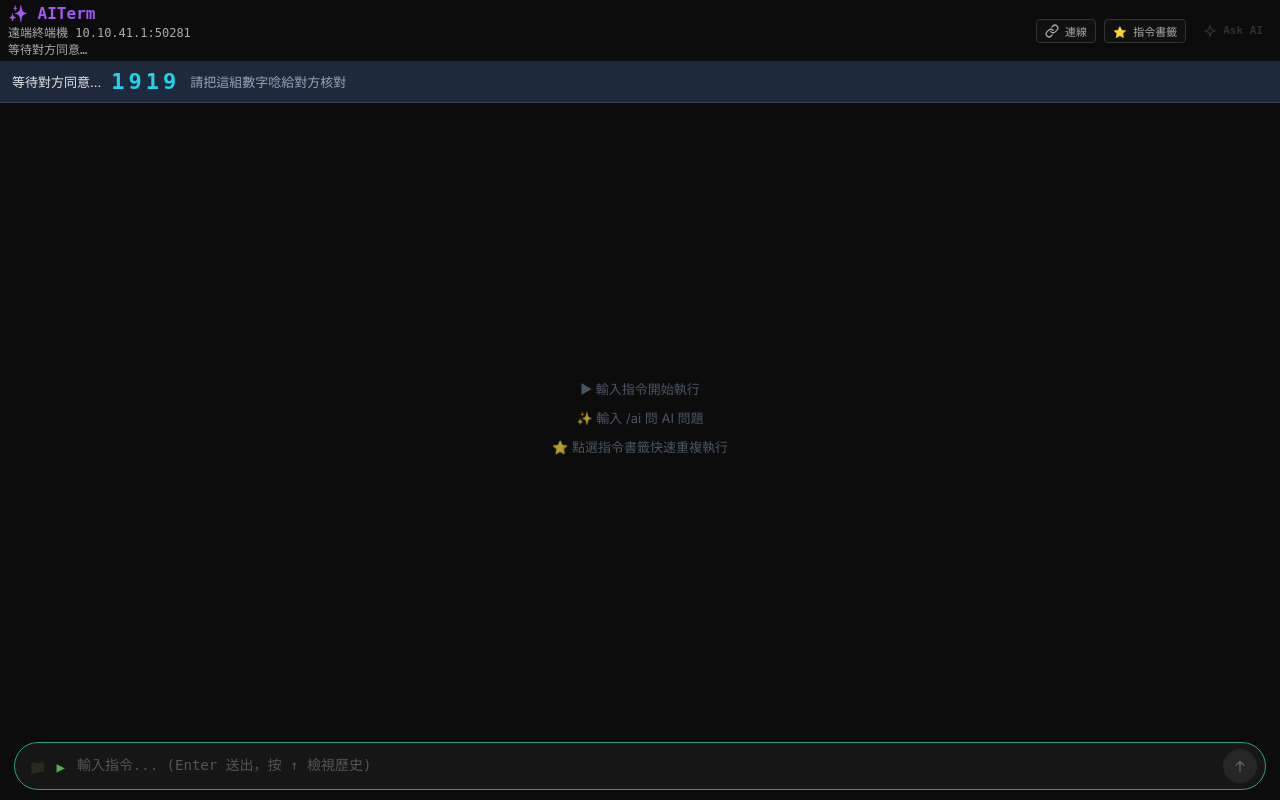
Test case: RemoteTerminalView › 點指令書籤按鈕開啟選單，選擇後把指令文字填進輸入框
Click the button titled "儲存至書籤 (Ctrl+Shift+R 開啟)": (1145, 30) [1104,18,1186,42]
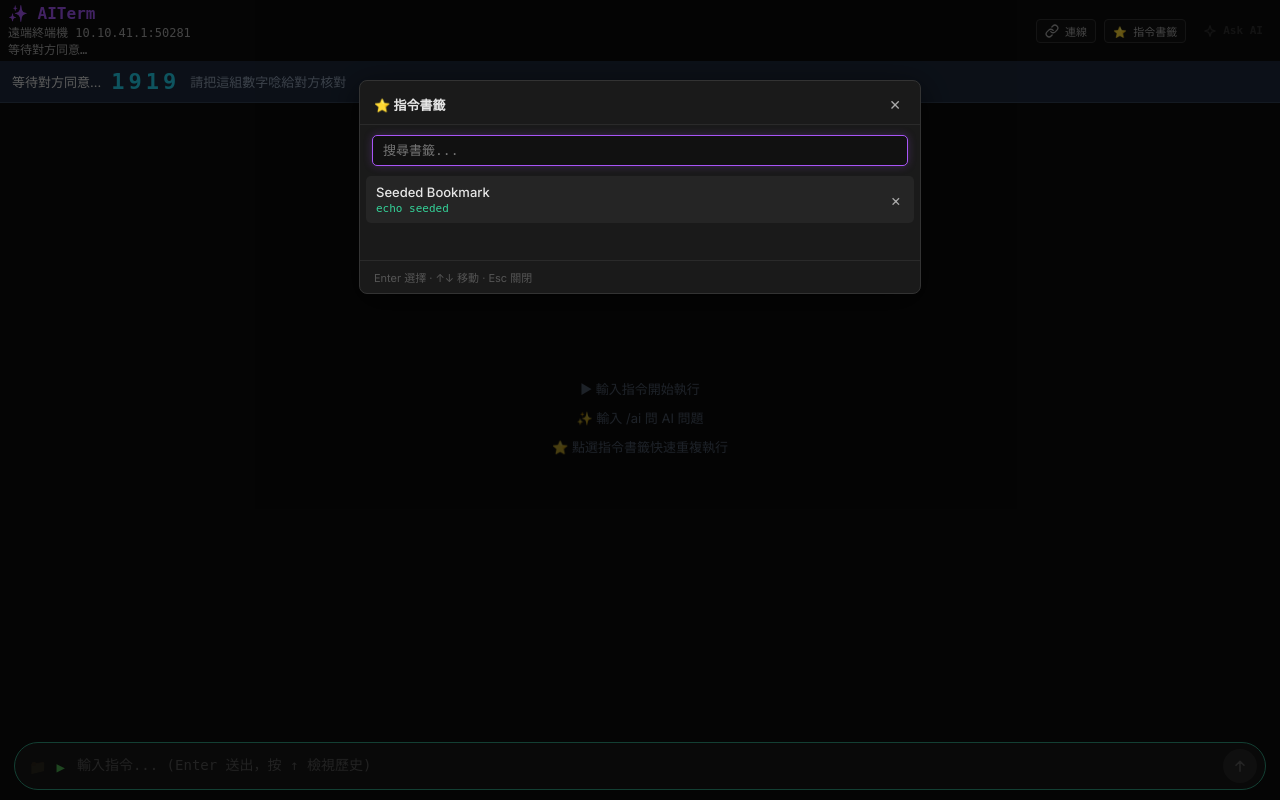
Expected: the element with class "bookmarks-dialog" is shown, [359,80,921,294]
Click the text "echo seeded": (412, 208) [376,202,449,215]
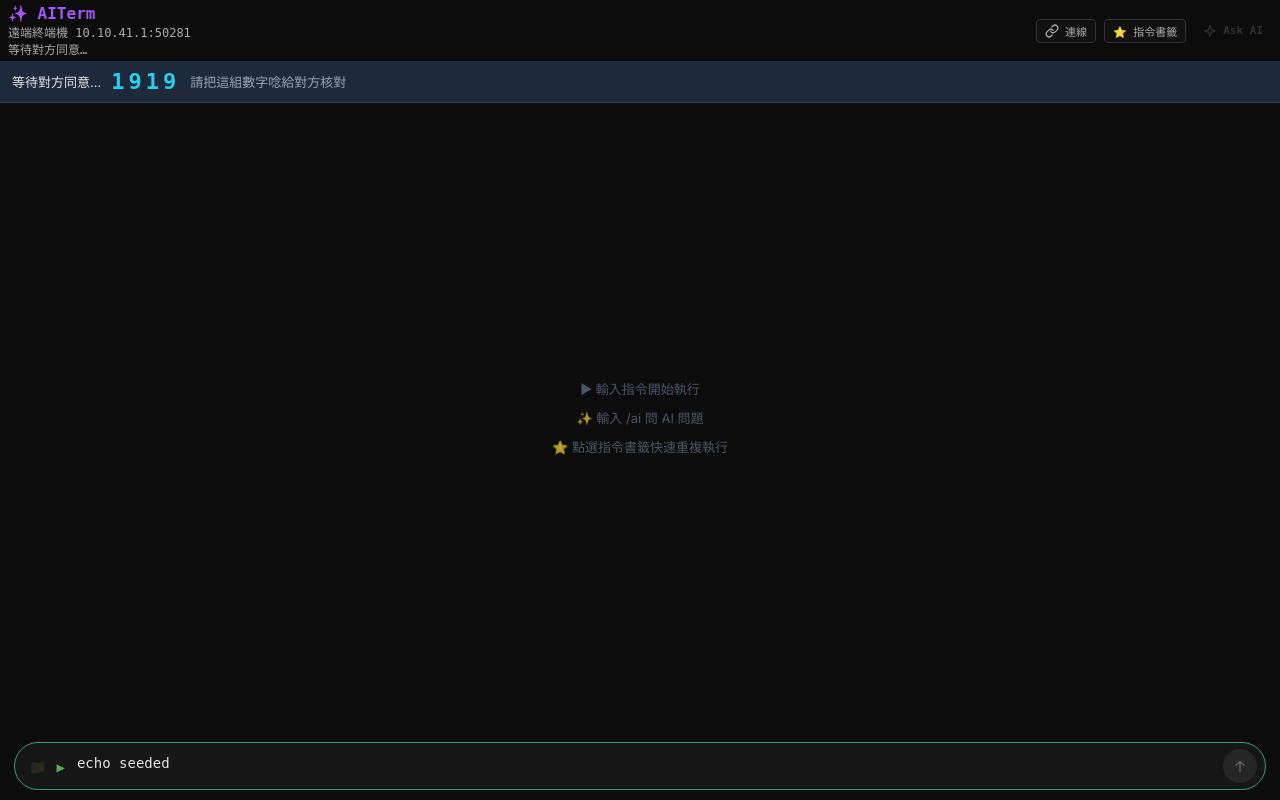
Expected: the element with class "bookmarks-dialog" is gone
